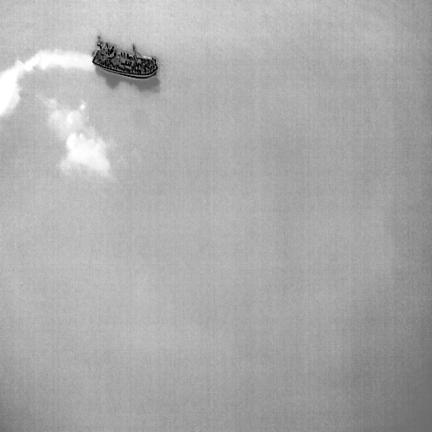flukeprints: (61, 132, 109, 175)
